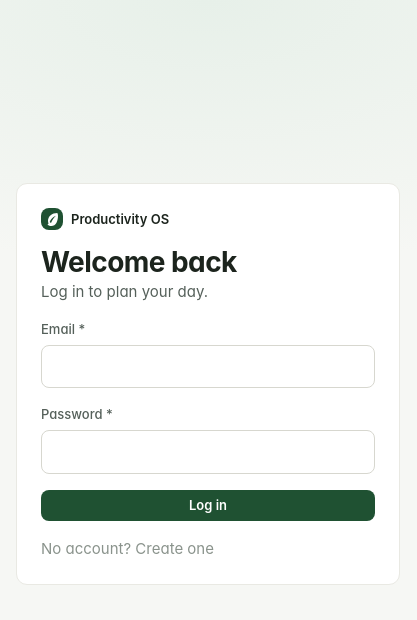
Test: Login › shows the rate-limit message on 429
Step 1. Type "sam@example.com" into the field named "Email *(required)" → point(208, 367), box [41,345,375,388]
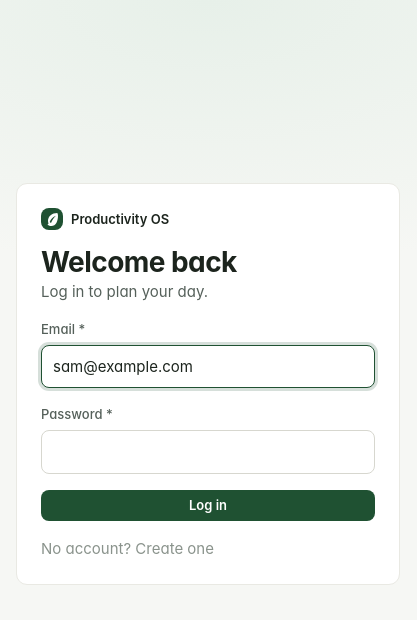
Step 2. Type "Secret!1" into the password field named "Password *(required)" → point(208, 452), box [41,430,375,474]
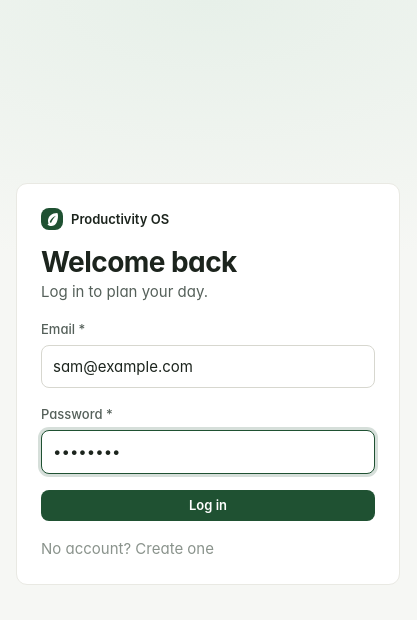
Step 3. Click the button "Log in" → point(208, 505), box [41,490,375,521]
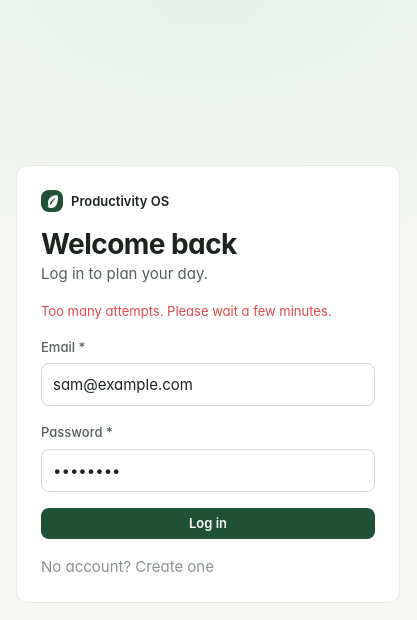
Check: the text "Too many attempts. Please wait a few minutes." is shown, box [41,301,375,321]
